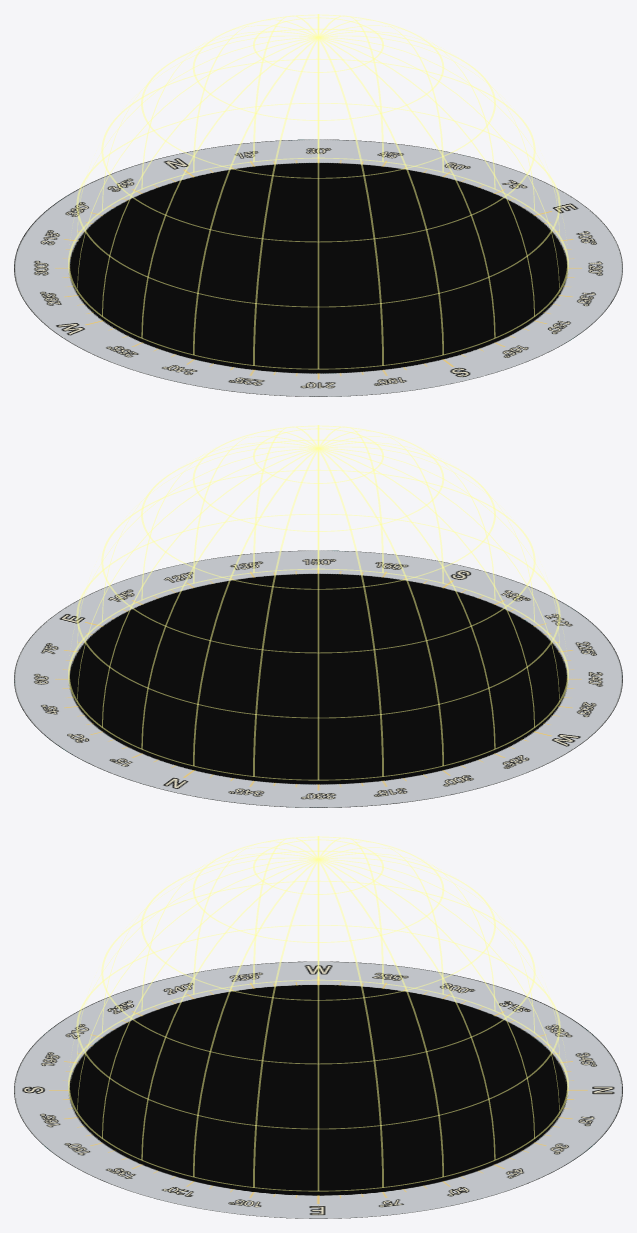
The model's file is scene_dome.glb.
3 renders of one model, top to bottom at view 1: azimuth 30°, elevation 25°; view 2: azimuth 150°, elevation 25°; view 3: azimuth 270°, elevation 25°, orthographic.
Size of the model in its own units: 2.44 by 1.02 by 2.44.
2 materials, 1 textured.
